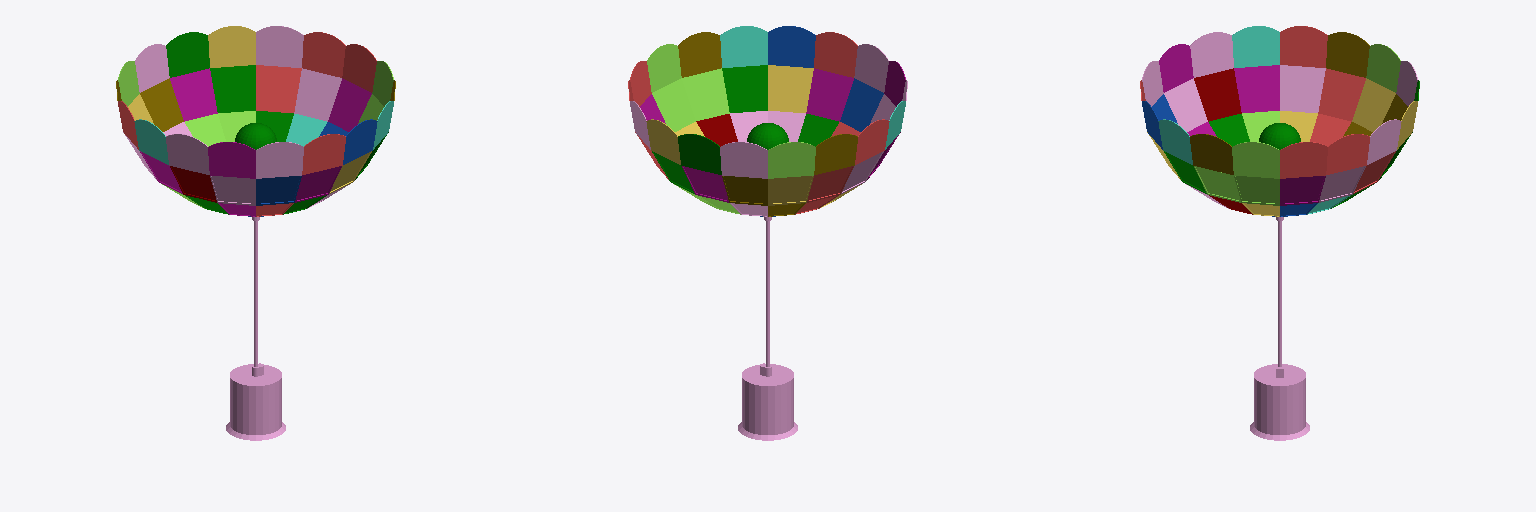
3 views of the same model, side by side, from view 1: azimuth 30°, elevation 25°; view 2: azimuth 150°, elevation 25°; view 3: azimuth 270°, elevation 25° (orthographic).
Parts seen in each view (by area): view 1: Group_003, Facette_2_019, Facette_2_016, Facette_1_019, Facette_1_003, Facette_2_046, Facette_2_043, Facette_1_035, Facette_1_005, Facette_1_021, Facette_1_001, Facette_2_049 (+20 smaller); view 2: Group_003, Facette_2_001, Facette_2_004, Facette_1_015, Facette_1_013, Facette_2_031, Facette_2_025, Facette_1_017, Facette_1_011, Facette_1_033, Facette_1_031, Facette_2_052 (+20 smaller); view 3: Group_003, Facette_2_010, Facette_2_007, Facette_1_027, Facette_1_025, Facette_2_034, Facette_2_013, Facette_1_029, Facette_1_023, Facette_1_009, Facette_1_007, Facette_2_037 (+20 smaller).
Part boxes in pixels (x1,y1,x2,y2): Group_003: (226, 217, 285, 440); Facette_2_019: (256, 65, 301, 112); Facette_2_016: (210, 65, 255, 112); Facette_1_019: (256, 26, 303, 67); Facette_1_003: (208, 26, 255, 67); Facette_2_046: (294, 68, 341, 121); Facette_2_043: (170, 68, 217, 121); Facette_1_035: (166, 32, 209, 77); Facette_1_005: (302, 32, 345, 77); Facette_1_021: (208, 142, 255, 178); Facette_1_001: (256, 142, 303, 178); Facette_2_049: (328, 78, 371, 131); Group_003: (738, 217, 797, 440); Facette_2_001: (768, 65, 813, 112); Facette_2_004: (722, 65, 767, 112); Facette_1_015: (768, 26, 815, 67); Facette_1_013: (720, 26, 767, 67); Facette_2_031: (806, 68, 853, 121); Facette_2_025: (682, 68, 729, 120); Facette_1_017: (814, 32, 857, 77); Facette_1_011: (678, 32, 721, 77); Facette_1_033: (720, 142, 767, 178); Facette_1_031: (768, 142, 815, 178); Facette_2_052: (652, 78, 695, 131); Group_003: (1250, 217, 1309, 440); Facette_2_010: (1280, 65, 1325, 112); Facette_2_007: (1234, 65, 1279, 112); Facette_1_027: (1280, 26, 1327, 67); Facette_1_025: (1232, 26, 1279, 67); Facette_2_034: (1194, 68, 1241, 121); Facette_2_013: (1318, 68, 1365, 121); Facette_1_029: (1326, 32, 1369, 77); Facette_1_023: (1190, 32, 1233, 77); Facette_1_009: (1232, 142, 1279, 178); Facette_1_007: (1280, 142, 1327, 178); Facette_2_037: (1352, 78, 1395, 131).
Size of the model in its own units: 347 by 468 by 345.